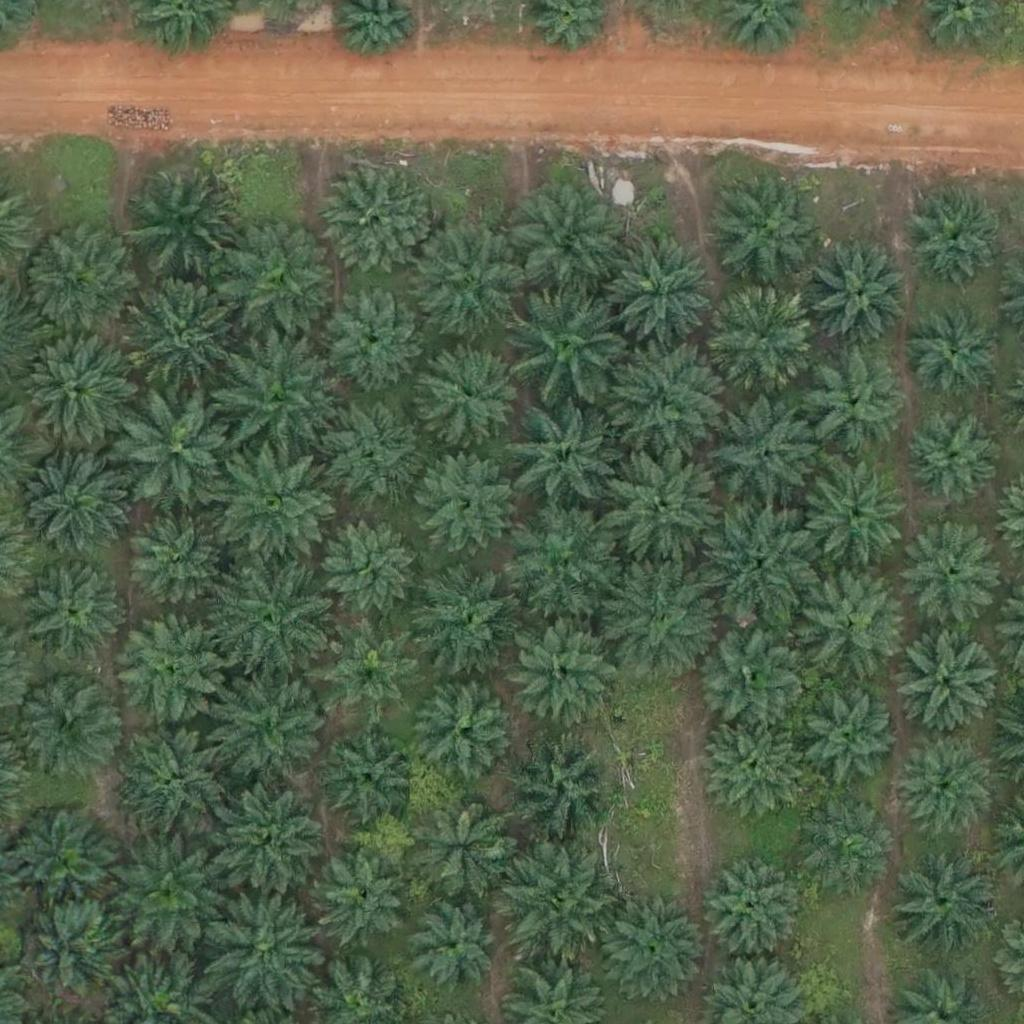Kelapa_Sawit: (596, 893, 709, 1007), (709, 171, 822, 285), (607, 235, 720, 349), (607, 444, 720, 558), (506, 504, 619, 618), (223, 445, 336, 559), (120, 389, 233, 503), (792, 562, 905, 675), (701, 499, 814, 612), (705, 285, 818, 398), (603, 349, 716, 462), (600, 563, 713, 676), (513, 286, 626, 399), (411, 560, 524, 673), (503, 856, 616, 969), (320, 167, 433, 280), (218, 228, 331, 341), (203, 904, 316, 1017), (110, 836, 223, 949), (117, 720, 230, 833), (109, 609, 222, 722), (21, 224, 134, 337), (22, 328, 135, 441), (15, 560, 128, 673), (10, 668, 123, 781), (7, 802, 120, 915), (794, 351, 906, 465), (708, 395, 820, 509), (417, 224, 529, 338), (218, 674, 330, 788), (513, 624, 625, 737), (507, 399, 619, 512), (511, 187, 623, 300), (501, 727, 613, 840), (311, 395, 423, 508), (221, 343, 333, 456), (217, 563, 329, 676), (214, 780, 326, 893), (130, 164, 242, 277), (123, 275, 235, 388), (16, 453, 128, 566), (897, 851, 997, 952), (891, 737, 991, 838), (898, 630, 998, 731), (904, 189, 1004, 290), (807, 247, 907, 348), (805, 467, 905, 568), (797, 796, 897, 897), (707, 861, 807, 962), (702, 624, 802, 725), (419, 340, 519, 441), (419, 686, 519, 787), (415, 797, 515, 898), (322, 721, 422, 822), (316, 513, 416, 614), (321, 281, 421, 382), (23, 899, 123, 1000), (905, 524, 1005, 624), (902, 408, 1002, 508), (905, 303, 1005, 403), (798, 687, 898, 787), (706, 715, 806, 815), (418, 451, 518, 551), (315, 845, 415, 945), (321, 620, 421, 720), (125, 509, 225, 609), (409, 903, 496, 991)
